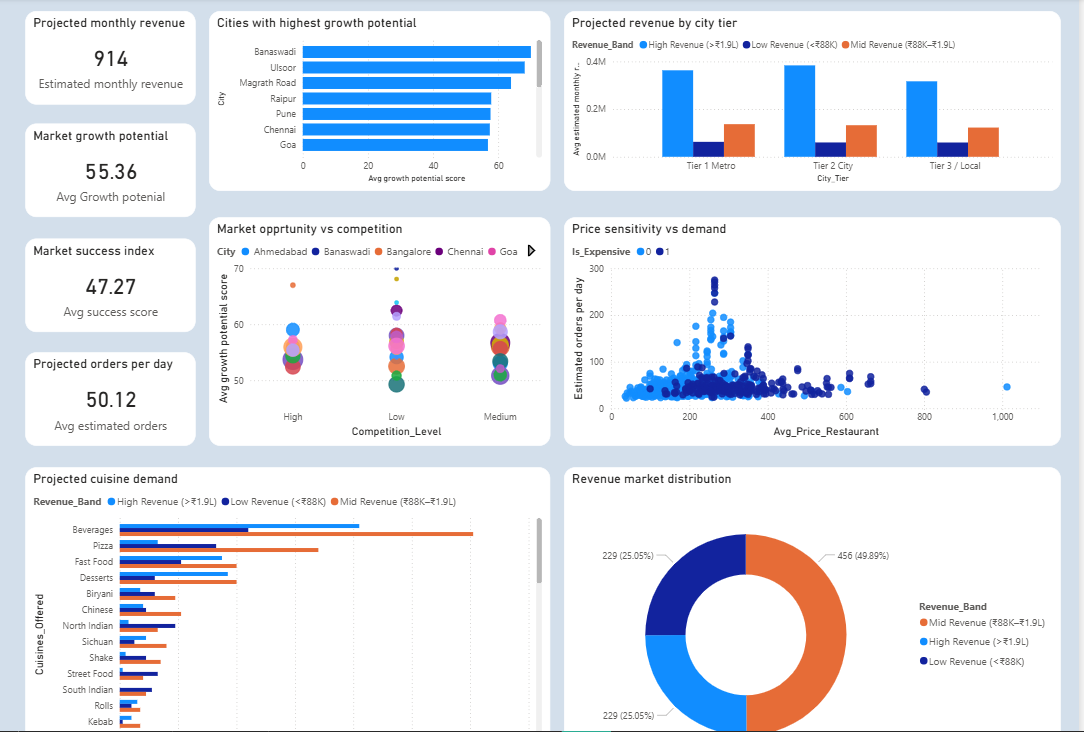

The dashboard page shown, as its layout file describes it:
{"tool":"powerbi","page":{"name":"Market forecast","canvas":[1280,720],"ordinal":0},"visuals":[{"type":"card","title":"Projected monthly revenue","fields":{"Values":["CountNonNull(Restaurant_Level.Estimated_Monthly_Revenue)"]},"box":[50.8,0,227.8,126.2],"z":0},{"type":"card","title":"Market growth potential","fields":{"Values":["Avg(Restaurant_Level.Growth_Potential_Score)"]},"box":[661.4,0,227.8,126.2],"z":1000},{"type":"card","title":"Projected orders per day","fields":{"Values":["Avg(Restaurant_Level.Estimated_Orders_Per_Day)"]},"box":[918,0,280,126],"z":2000},{"type":"card","title":"Market success index","fields":{"Values":["Avg(Restaurant_Level.Success_Score)"]},"box":[337.6,0,248.4,126.2],"z":3000},{"type":"clusteredBarChart","title":"Cities with highest growth potential","fields":{"Category":["Restaurant_Level.City"],"Y":["Avg(Restaurant_Level.Growth_Potential_Score)"]},"box":[31.6,145.5,430.9,270.3],"z":4000},{"type":"clusteredColumnChart","title":"Projected revenue by city tier","fields":{"Category":["Restaurant_Level.City_Tier"],"Y":["Avg(Restaurant_Level.Estimated_Monthly_Revenue)"],"Series":["Restaurant_Level.Revenue_Band"]},"box":[31.6,452.8,430.9,253.9],"z":5000},{"type":"scatterChart","title":"Market opprtunity vs competition","fields":{"X":["Restaurant_Level.Competition_Level"],"Y":["Restaurant_Level.Growth_Potential_Score"],"Series":["Restaurant_Level.City"],"Size":["CountNonNull(Restaurant_Level.Estimated_Monthly_Revenue)"]},"box":[474.8,145.5,446,260.7],"z":6000},{"type":"scatterChart","title":"Price sensitivity vs demand","fields":{"X":["Restaurant_Level.Avg_Price_Restaurant"],"Y":["Restaurant_Level.Estimated_Orders_Per_Day"],"Series":["Restaurant_Level.Is_Expensive"]},"box":[474.8,452.8,376,253.9],"z":7000},{"type":"clusteredBarChart","title":"Projected cuisine demand","fields":{"Category":["Restaurant_Level.Cuisines_Offered"],"Y":["CountNonNull(Restaurant_Level.Estimated_Orders_Per_Day)"],"Series":["Restaurant_Level.Revenue_Band"]},"box":[850.8,450.1,413,260.7],"z":8000},{"type":"donutChart","title":"Revenue market distribution","fields":{"Category":["Restaurant_Level.Revenue_Band"],"Y":["CountNonNull(Restaurant_Level.Estimated_Monthly_Revenue)"]},"box":[921.2,145,358.8,261.2],"z":9000}]}

Visuals, with their boxes on the page's 1280x720 design canvas (x1, y1, x2, y2). These are canvas units, not pixel positions in the 1084x732 screenshot, which may show the page scaled, cropped or inside an application window:
"Projected monthly revenue" card: [left=51, top=0, right=279, bottom=126]
"Market growth potential" card: [left=661, top=0, right=889, bottom=126]
"Projected orders per day" card: [left=918, top=0, right=1198, bottom=126]
"Market success index" card: [left=338, top=0, right=586, bottom=126]
"Cities with highest growth potential" clusteredBarChart: [left=32, top=146, right=462, bottom=416]
"Projected revenue by city tier" clusteredColumnChart: [left=32, top=453, right=462, bottom=707]
"Market opprtunity vs competition" scatterChart: [left=475, top=146, right=921, bottom=406]
"Price sensitivity vs demand" scatterChart: [left=475, top=453, right=851, bottom=707]
"Projected cuisine demand" clusteredBarChart: [left=851, top=450, right=1264, bottom=711]
"Revenue market distribution" donutChart: [left=921, top=145, right=1280, bottom=406]
